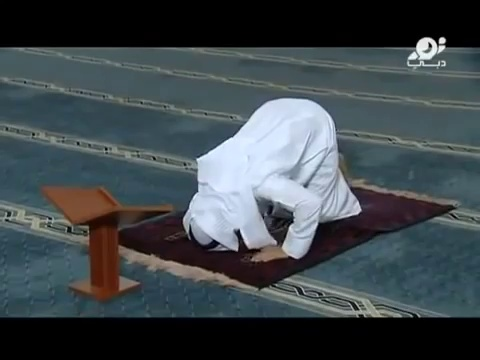sujud: (184, 97, 358, 263)
